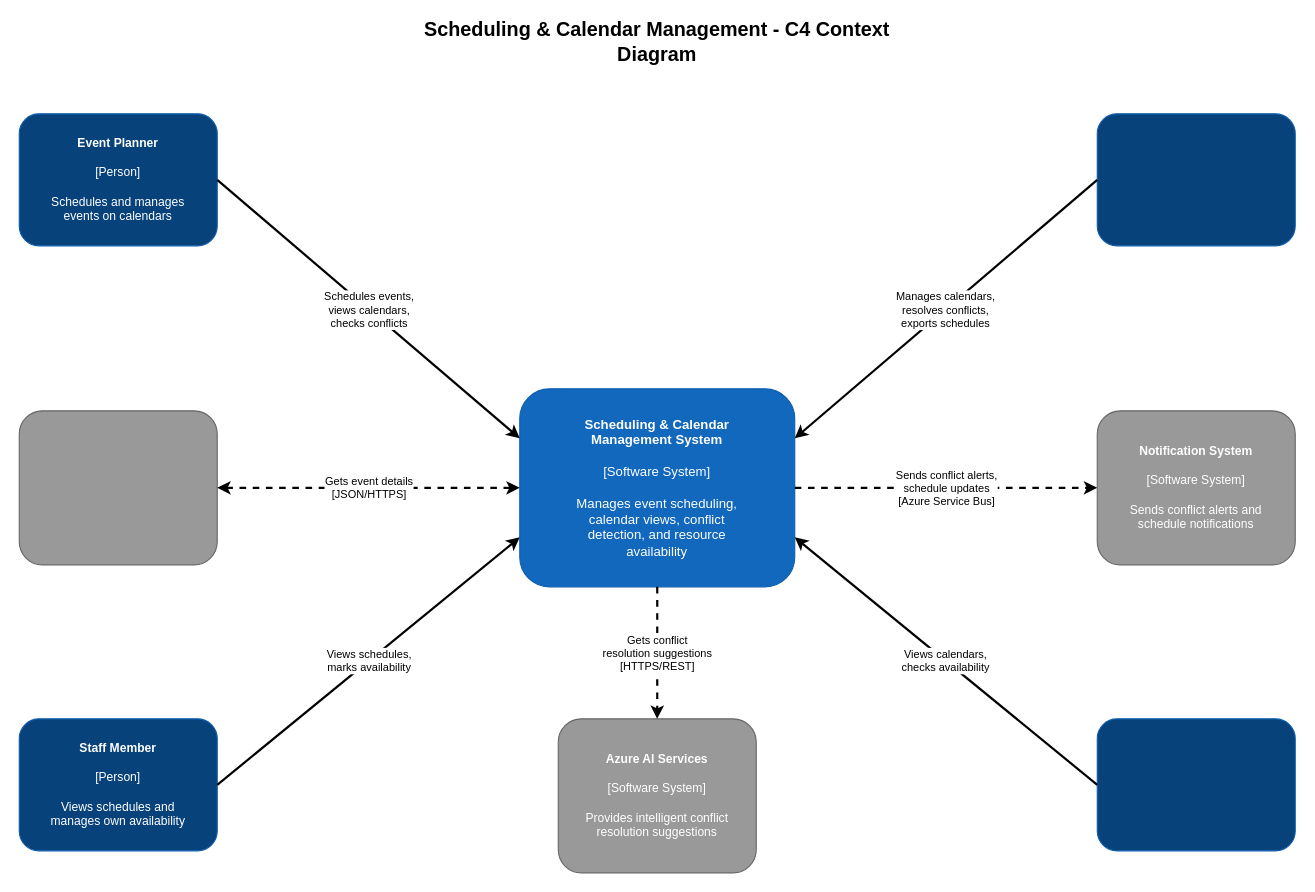
This 1315x892 diagram has some shape labels left out. The centre of each missing label's shape, as x and y in pixels:
"Customer [Person] Views event schedules and checks availability" belongs at point 1195,784.
"Event Management System [Software System] Manages event lifecycle and details" belongs at point 117,487.
"Venue Manager [Person] Manages calendars and resolves scheduling conflicts" belongs at point 1195,179.
